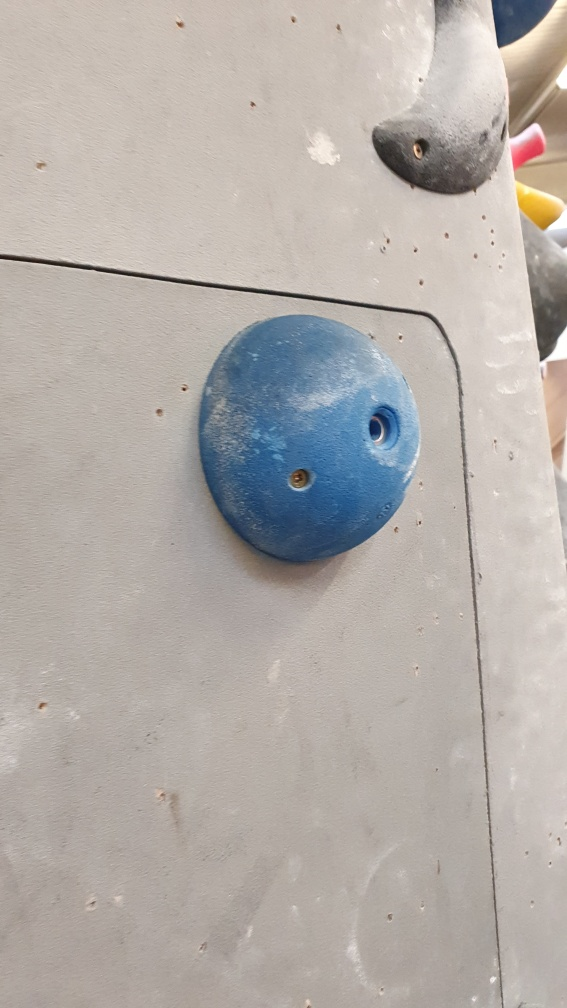Sloper: (196, 311, 430, 569)
